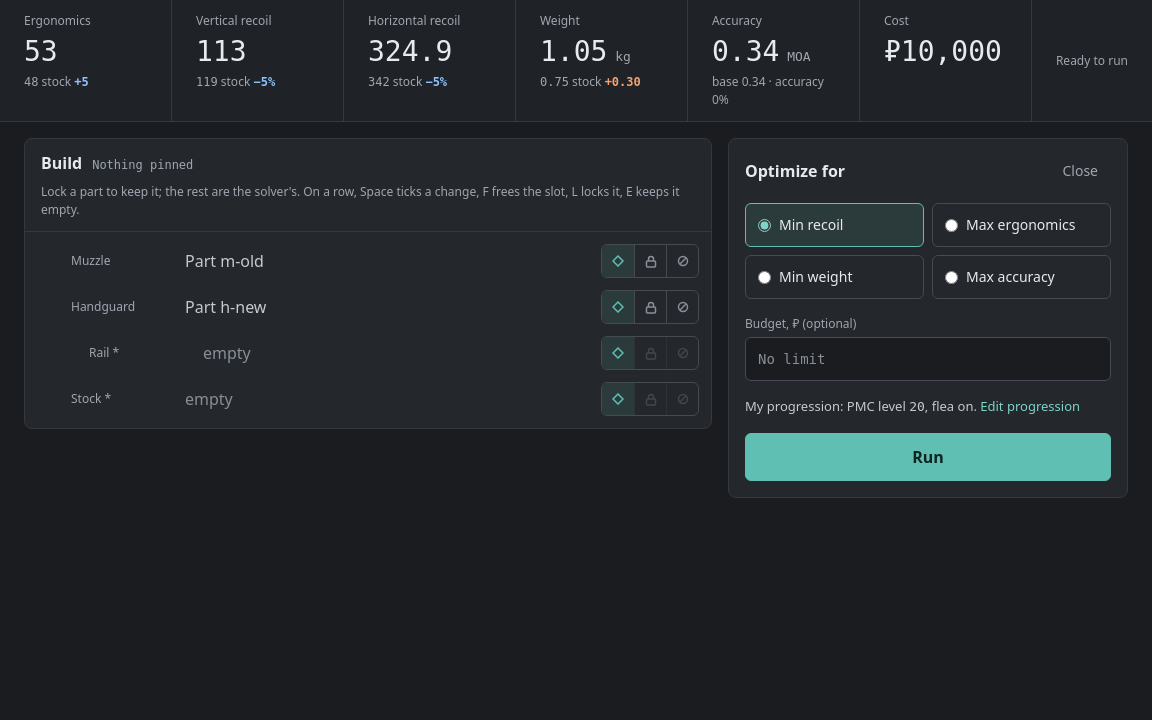
Test: OptimizeWorkbench › pins › has no pin on a slot only the proposal reaches
Click the button "Run" at [928, 456], box [745,432,1111,480]
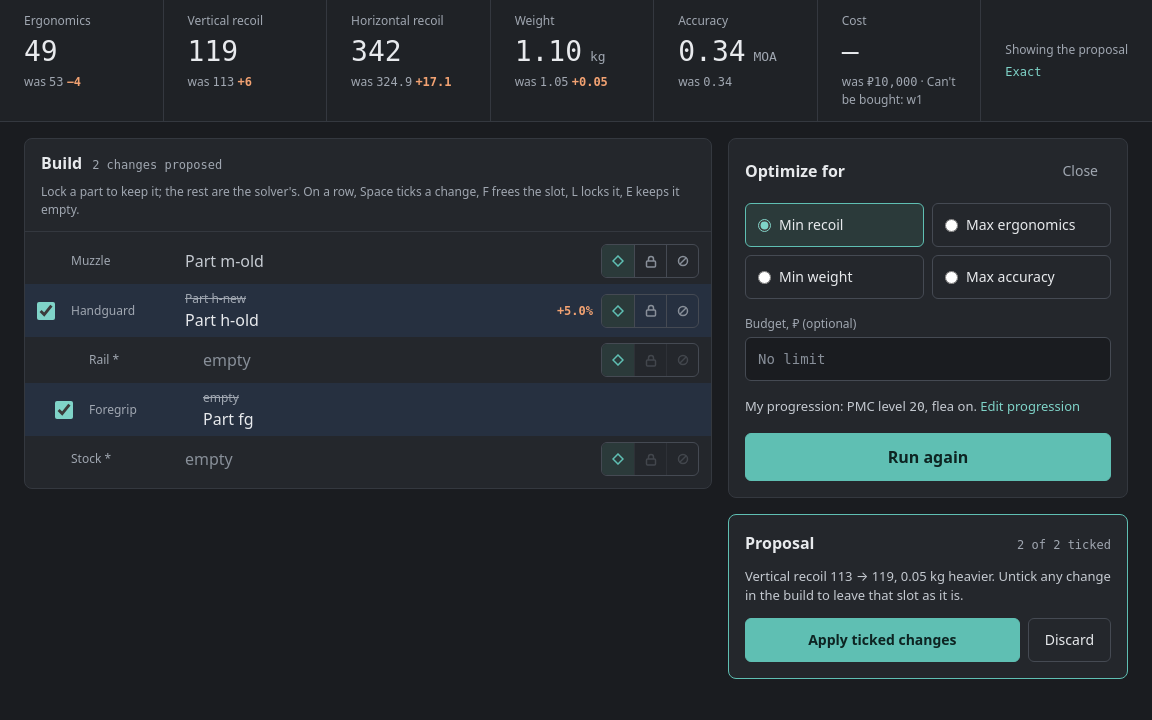
expect the element "Proposal" is shown: met, box [728,514,1128,678]
